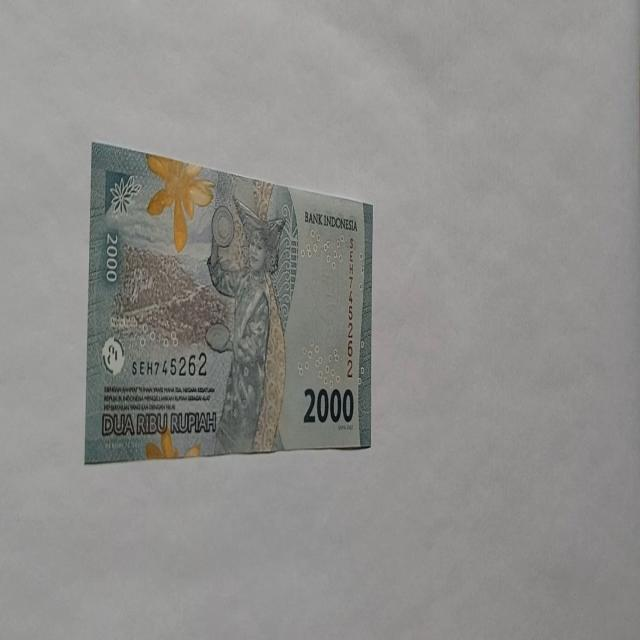dua ribu rupiah: (84, 142, 374, 463), (205, 193, 288, 454), (144, 152, 216, 254)
